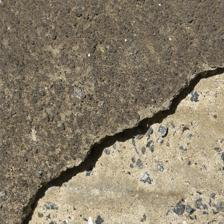Crack: (12, 34, 212, 187)
